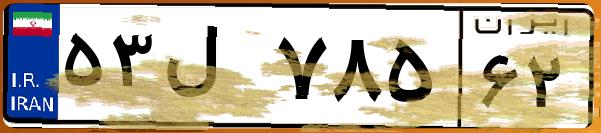2: (525, 38, 570, 115)
3: (110, 28, 158, 98)
5: (385, 28, 445, 110), (57, 26, 110, 100)
6: (475, 38, 525, 113)
7: (270, 28, 330, 110)
8: (330, 28, 385, 110)
ل: (158, 20, 270, 120)
